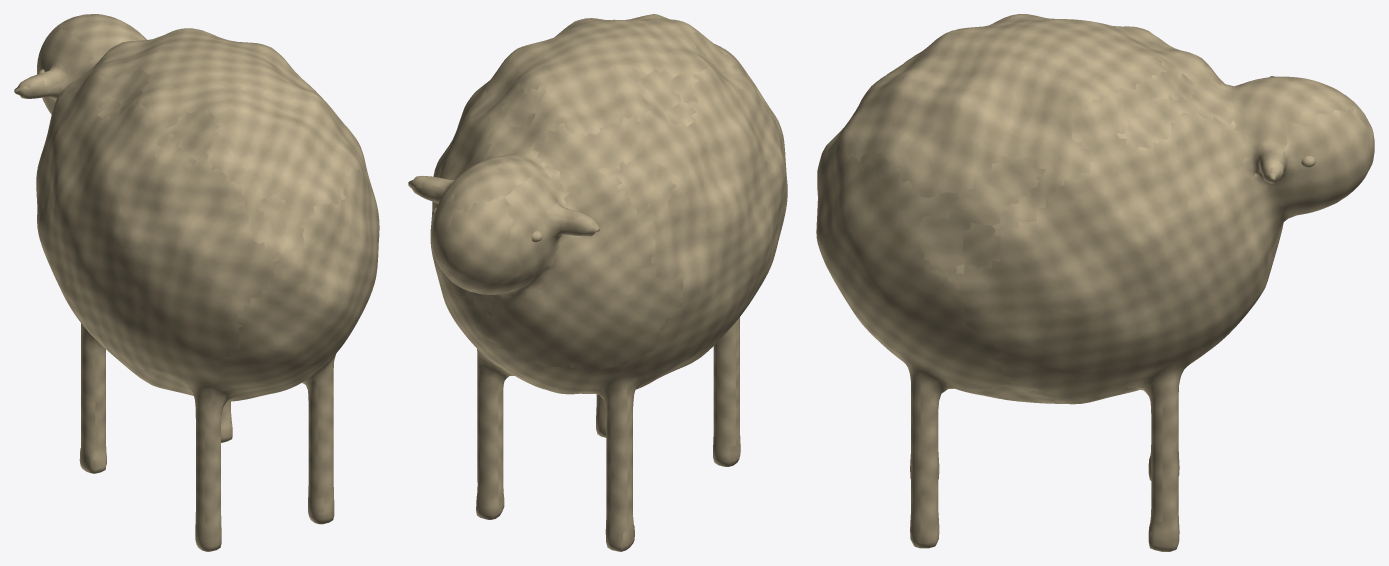
File: sheep_weld_review.glb
3 renders of one model, left to right at view 1: azimuth 30°, elevation 25°; view 2: azimuth 150°, elevation 25°; view 3: azimuth 270°, elevation 25°, orthographic. The views are drawn at different scales.
Visible parts, largest first — view 1: welded_body_review; view 2: welded_body_review; view 3: welded_body_review.
Part boxes in pixels (left/top/right/bottom): welded_body_review: left=14, top=14, right=379, bottom=551; welded_body_review: left=408, top=14, right=787, bottom=551; welded_body_review: left=816, top=14, right=1374, bottom=551.
Size of the model in its own units: 0.9657 by 1.49 by 1.56.
Materials: 1 (1 with a texture image).
